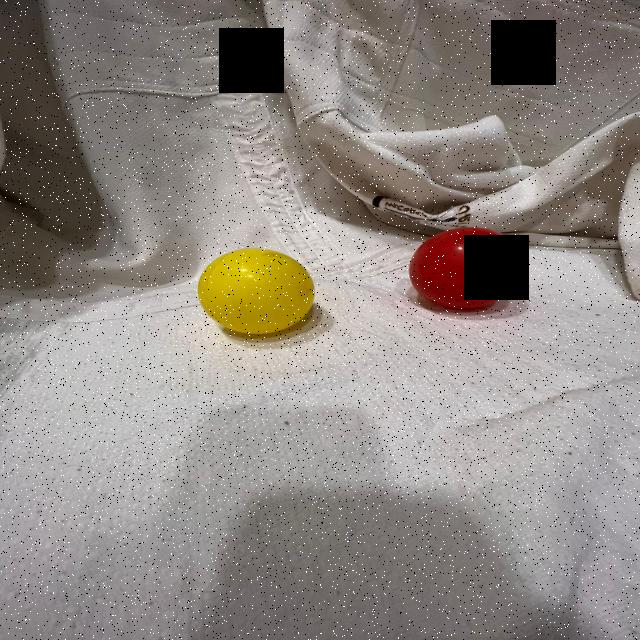ball: (194, 245, 317, 338), (409, 224, 526, 313)
